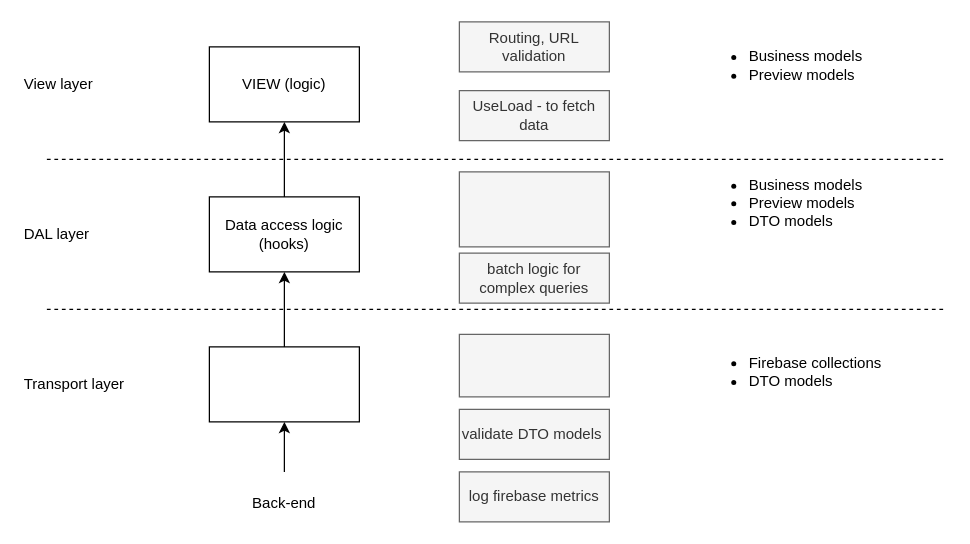
Image size: 970x544. Some labels were removed from this diagram. The shapes that lost their labels are listed below. From the top down, each one's box as (x1, y1, x2, y2) in pixels, then its label:
(458, 171, 609, 247): convert DTO To Preview and Business and vice versa
(208, 346, 359, 422): Service
(458, 333, 609, 397): Convert firebase Snapshot data to DTO and vice versa
